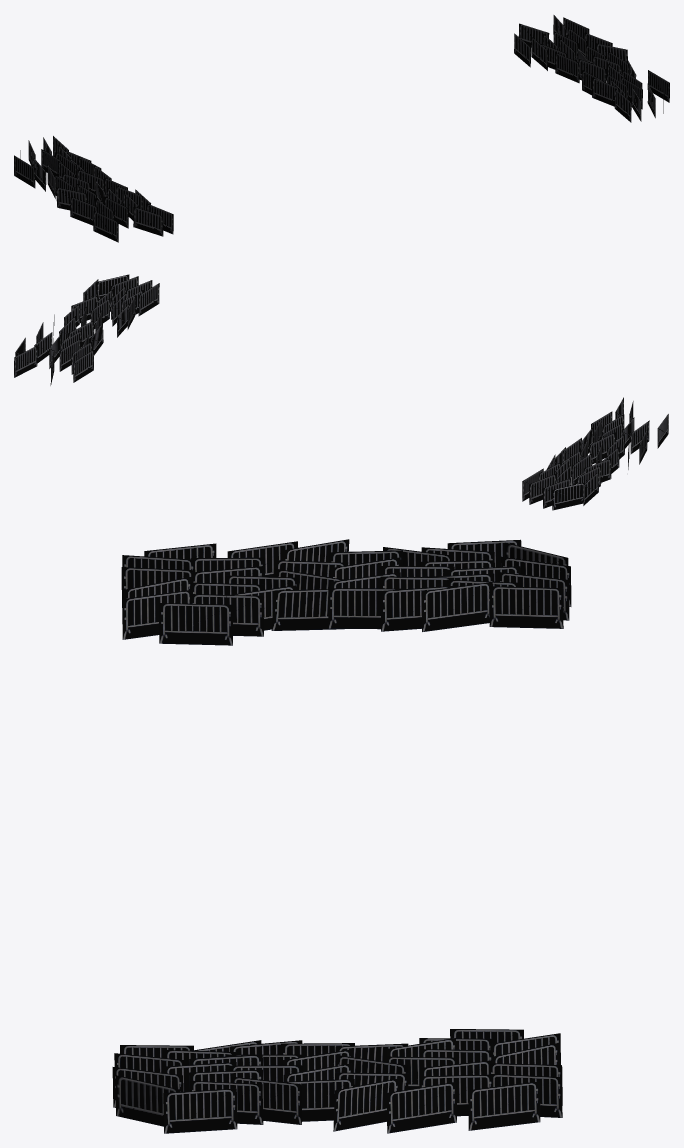
Rendered from barages.gltf.
3 views of the same model, one above another, from view 1: azimuth 30°, elevation 25°; view 2: azimuth 150°, elevation 25°; view 3: azimuth 270°, elevation 25° (orthographic). The views are drawn at different scales.
Visible parts, largest first — view 1: barrierr048, barrierr036, barrierr016, barrierr041, barrierr001, barrierr037, barrierr034, barrierr052, barrierr023, barrierr047, barrierr011, barrierr (+3 smaller); view 2: barrierr065, barrierr027, barrierr, barrierr031, barrierr069, barrierr054, barrierr022, barrierr006, barrierr045; view 3: barrierr071, barrierr034, barrierr040, barrierr035, barrierr030, barrierr070, barrierr019, barrierr055, barrierr062, barrierr006, barrierr050, barrierr063 (+20 smaller).
Boxes of the visible parts, x1,y1,x2,y2 form: barrierr048: (133, 207, 163, 236); barrierr036: (93, 211, 118, 242); barrierr016: (555, 52, 579, 83); barrierr041: (70, 197, 97, 225); barrierr001: (592, 77, 619, 106); barrierr037: (14, 155, 35, 188); barrierr034: (647, 70, 669, 102); barrierr052: (56, 187, 87, 210); barrierr023: (518, 23, 549, 47); barrierr047: (104, 197, 128, 228); barrierr011: (578, 59, 606, 82); barrierr: (614, 89, 631, 122); barrierr065: (552, 482, 585, 510); barrierr027: (14, 345, 37, 377); barrierr: (138, 283, 159, 316); barrierr031: (73, 350, 93, 382); barrierr069: (529, 473, 556, 504); barrierr054: (589, 432, 615, 464); barrierr022: (59, 339, 80, 371); barrierr006: (96, 274, 129, 300); barrierr045: (630, 420, 649, 454); barrierr071: (489, 586, 563, 628); barrierr034: (163, 1088, 237, 1133); barrierr040: (159, 603, 232, 645); barrierr035: (468, 1081, 540, 1130); barrierr030: (386, 1082, 456, 1133); barrierr070: (421, 582, 492, 631); barrierr019: (333, 1078, 399, 1131); barrierr055: (271, 589, 344, 630); barrierr062: (328, 588, 401, 629); barrierr006: (115, 1075, 179, 1126); barrierr050: (122, 589, 192, 639); barrierr063: (380, 585, 453, 631).
Size of the model in its own units: 30.22 by 1.2 by 10.56.
2 materials, 2 textured.
